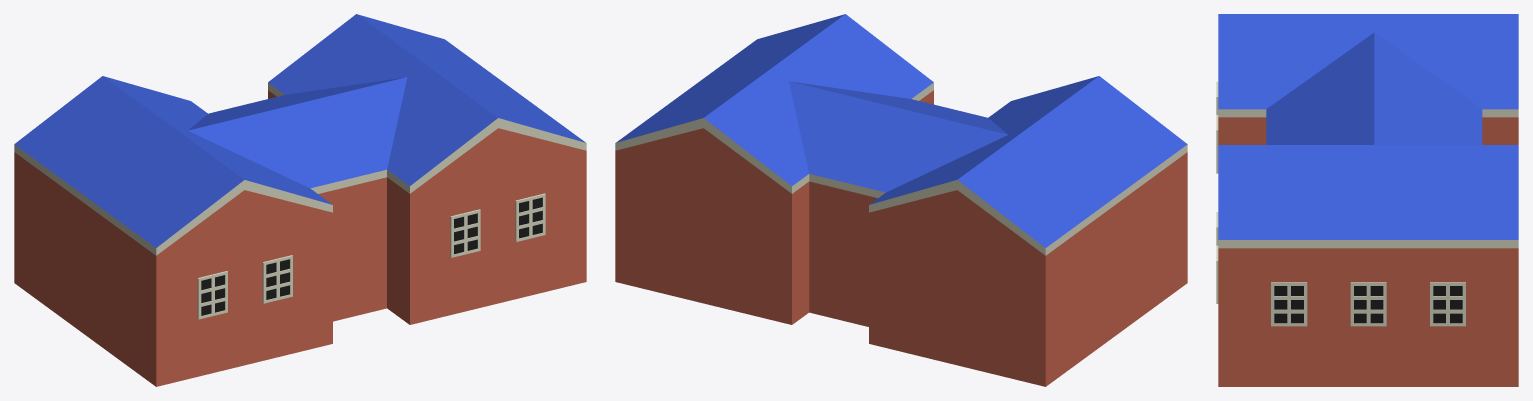
Rendered from Baekhak Hall.fbx.
The picture shows the model from 3 angles, left to right: view 1: azimuth 30°, elevation 25°; view 2: azimuth 150°, elevation 25°; view 3: azimuth 270°, elevation 25°; orthographic projection. The views are drawn at different scales.
Parts seen in each view (by area): view 1: Baekhak Hall; view 2: Baekhak Hall; view 3: Baekhak Hall.
Boxes of the visible parts, box(x1,y1,x2,y2) form: Baekhak Hall: box(14, 14, 586, 386); Baekhak Hall: box(615, 14, 1187, 386); Baekhak Hall: box(1216, 14, 1518, 386).
Bounding box in the file's own units: 278 × 114 × 159.
